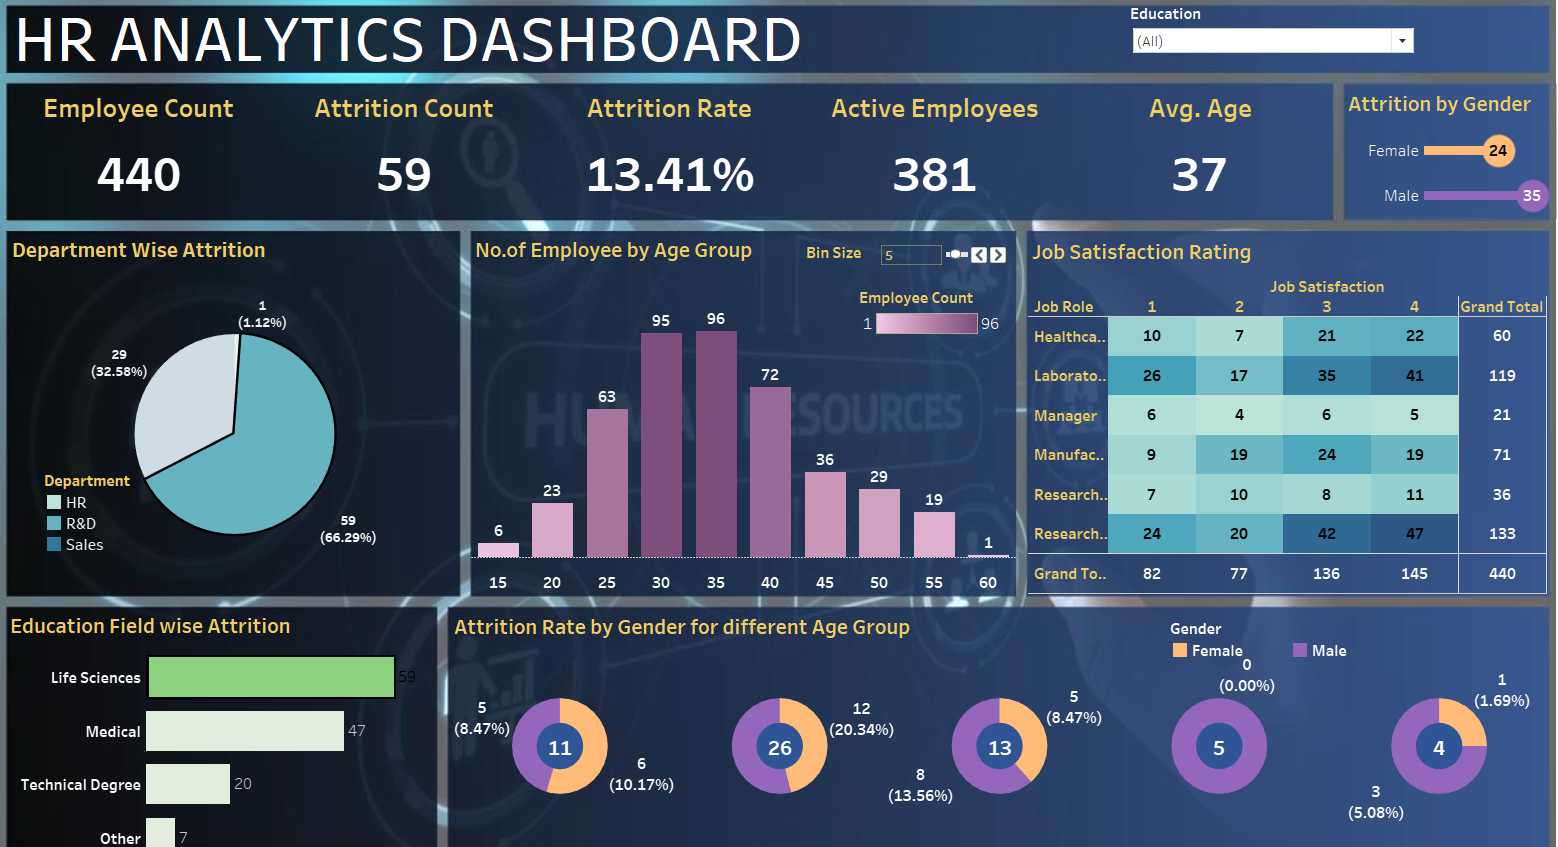

The page's visual inventory and layout, read from the dashboard file:
{"tool":"tableau","page":{"name":"HR ANALYTICS DASHBOARD","canvas":[1580,900],"ordinal":0},"visuals":[{"type":"image","param":"C:/Users/91932/Downloads/HR background.pptx.jpg","box":[8,8,1564,884]},{"type":"text","box":[22,13,1058,73]},{"type":"filter","title":"Department Wise Attrition","param":"[federated.0o6qi7s0vmsxy115w4pl413we7qp].[none:Education:nk]","box":[1142,16,287,69]},{"type":"worksheet","title":"KPI","mark":"Automatic","box":[18,97,1327,135]},{"type":"worksheet","title":"Attrition by Gender","mark":"Automatic","rows":["Gender"],"cols":["Calculation_1180224583256571905","Calculation_1180224583256571905"],"box":[1356,98,211,133]},{"type":"worksheet","title":"Department Wise Attrition","mark":"Pie","box":[20,244,453,364]},{"type":"worksheet","title":"No.of Employee by Age Group","mark":"Automatic","rows":["Employee Count"],"cols":["Age (bin)"],"box":[483,244,545,363]},{"type":"worksheet","title":"Job Satisfaction Rating","mark":"Square","rows":["Job Role"],"cols":["Job Satisfaction"],"box":[1040,246,519,361]},{"type":"parameter","param":"[Parameters].[Parameter 1]","box":[818,255,203,44]},{"type":"legend","title":"No.of Employee by Age Group","param":"[federated.0o6qi7s0vmsxy115w4pl413we7qp].[sum:Employee Count:qk]","box":[871,300,145,53]},{"type":"legend","title":"Department Wise Attrition","param":"[federated.0o6qi7s0vmsxy115w4pl413we7qp].[none:Department:nk]","box":[56,483,113,104]},{"type":"worksheet","title":"Education Field wise Attrition ","mark":"Automatic","rows":["Education Field"],"cols":["Calculation_1180224583256571905"],"box":[18,620,430,258]},{"type":"worksheet","title":"Attrition Rate by Gender for different Age Group","mark":"Pie","rows":["Calculation_454582093909807105","Calculation_454582093909807105"],"cols":["CF_age band"],"box":[462,621,1099,258]},{"type":"legend","title":"Attrition Rate by Gender for different Age Group","param":"[federated.0o6qi7s0vmsxy115w4pl413we7qp].[none:Gender:nk]","box":[1182,631,330,50]}]}

Visuals, with their boxes on the page's 1580x900 design canvas (x1, y1, x2, y2). These are canvas units, not pixel positions in the 1558x847 screenshot, which may show the page scaled, cropped or inside an application window:
image: l=8, t=8, r=1572, b=892
text: l=22, t=13, r=1080, b=86
"Department Wise Attrition" filter: l=1142, t=16, r=1429, b=85
"KPI" worksheet: l=18, t=97, r=1345, b=232
"Attrition by Gender" worksheet: l=1356, t=98, r=1567, b=231
"Department Wise Attrition" worksheet (Pie marks): l=20, t=244, r=473, b=608
"No.of Employee by Age Group" worksheet: l=483, t=244, r=1028, b=607
"Job Satisfaction Rating" worksheet (Square marks): l=1040, t=246, r=1559, b=607
parameter: l=818, t=255, r=1021, b=299
"No.of Employee by Age Group" legend: l=871, t=300, r=1016, b=353
"Department Wise Attrition" legend: l=56, t=483, r=169, b=587
"Education Field wise Attrition " worksheet: l=18, t=620, r=448, b=878
"Attrition Rate by Gender for different Age Group" worksheet (Pie marks): l=462, t=621, r=1561, b=879
"Attrition Rate by Gender for different Age Group" legend: l=1182, t=631, r=1512, b=681
